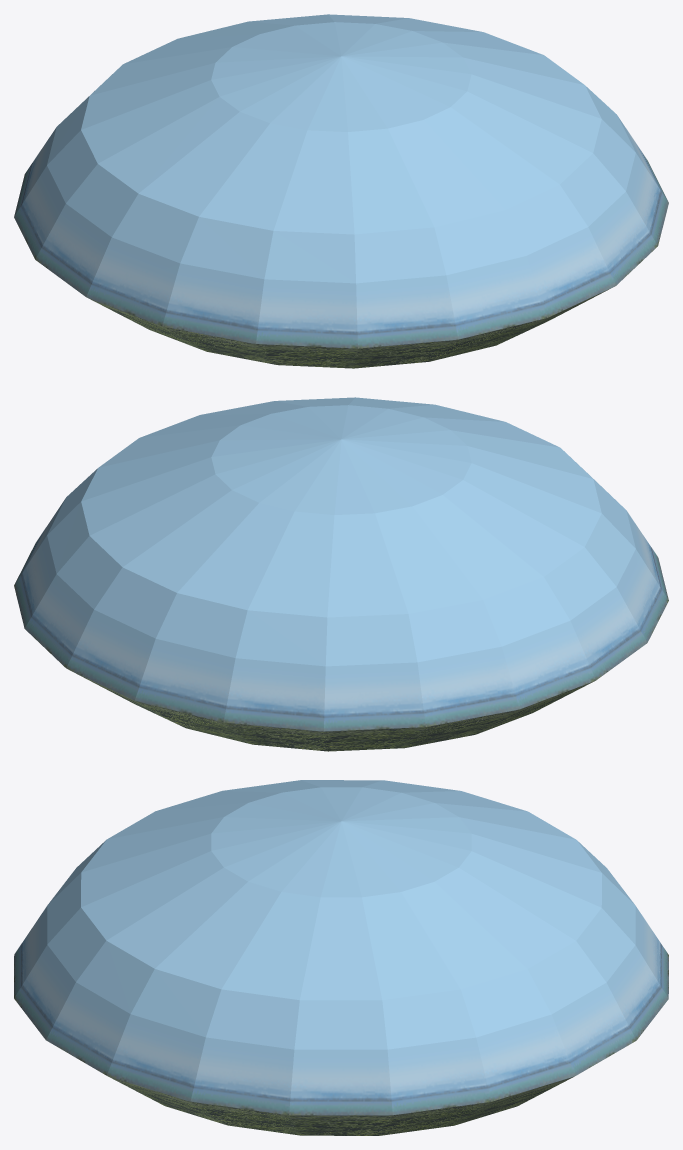
The picture shows the model from 3 angles, top to bottom: view 1: azimuth 30°, elevation 25°; view 2: azimuth 150°, elevation 25°; view 3: azimuth 270°, elevation 25°; orthographic projection.
Visible parts, largest first — view 1: mesh00; view 2: mesh00; view 3: mesh00.
Boxes of the visible parts, bbox=[...] form: mesh00: bbox=[14, 14, 668, 368]; mesh00: bbox=[14, 397, 668, 751]; mesh00: bbox=[14, 780, 668, 1135].
Size of the model in its own units: 33663 by 11924 by 33648.
